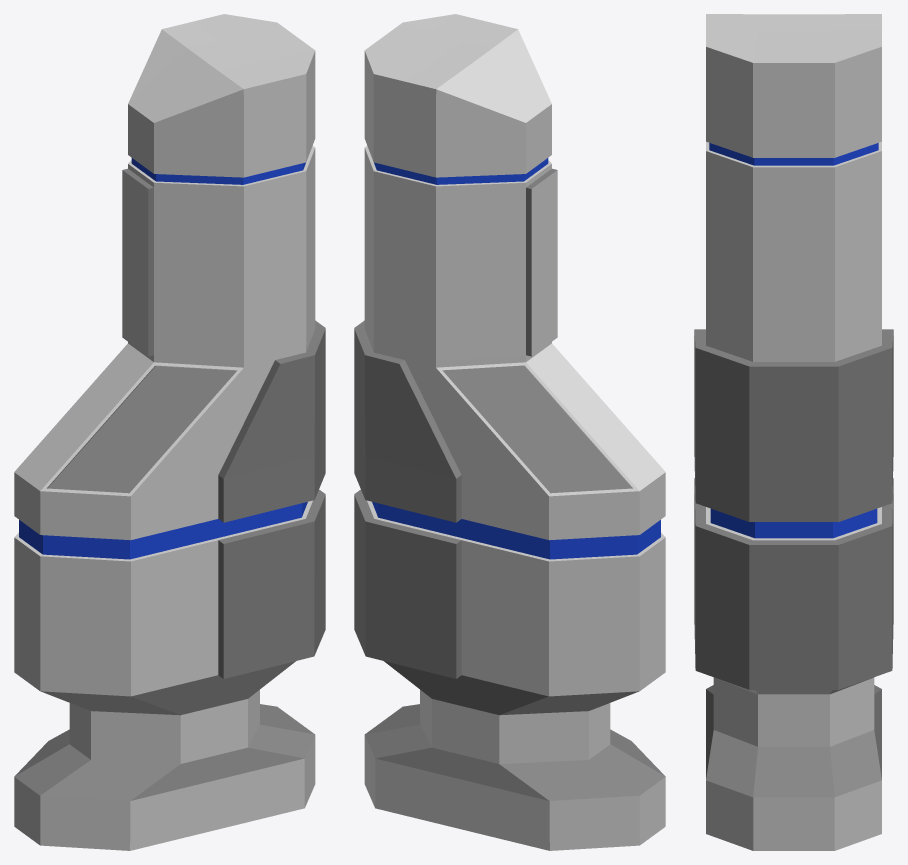
File: SciFi_Sky_Scraper_1.fbx
3 views of the same model, side by side, from view 1: azimuth 30°, elevation 25°; view 2: azimuth 150°, elevation 25°; view 3: azimuth 270°, elevation 25° (orthographic). The views are drawn at different scales.
Parts seen in each view (by area): view 1: Sci-Fi_Sky_Scraper_1; view 2: Sci-Fi_Sky_Scraper_1; view 3: Sci-Fi_Sky_Scraper_1.
Boxes of the visible parts, bbox=[...] form: Sci-Fi_Sky_Scraper_1: bbox=[14, 14, 325, 850]; Sci-Fi_Sky_Scraper_1: bbox=[354, 14, 665, 850]; Sci-Fi_Sky_Scraper_1: bbox=[694, 14, 893, 850].
Size of the model in its own units: 429 by 248 by 1082.
